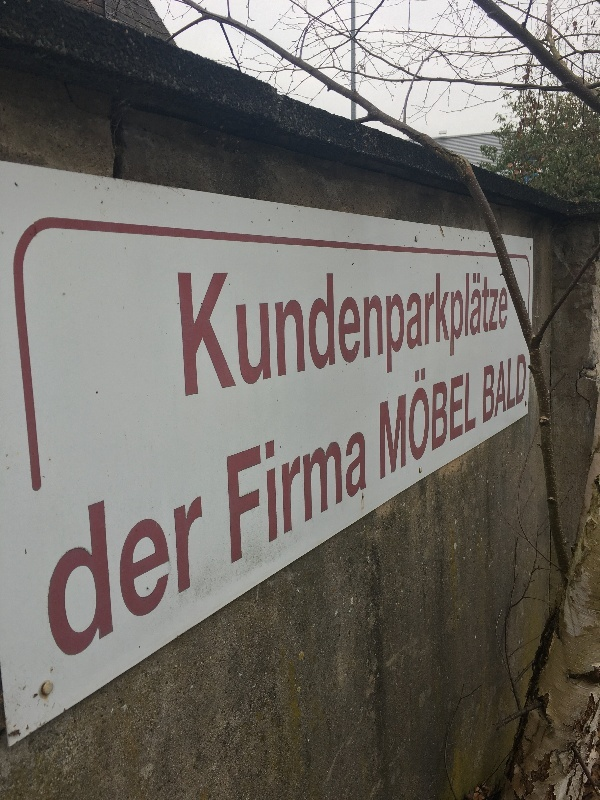text: (49, 480, 64, 676), (65, 480, 80, 676), (81, 480, 96, 676), (97, 480, 112, 676), (113, 480, 128, 676), (129, 480, 144, 676), (145, 480, 160, 676), (161, 480, 176, 676), (177, 480, 192, 676), (193, 480, 206, 676), (177, 272, 192, 433), (193, 272, 208, 433), (209, 272, 224, 433), (225, 272, 240, 433), (241, 272, 256, 433), (257, 272, 272, 433), (273, 272, 288, 433), (289, 272, 304, 433), (305, 272, 320, 433), (321, 272, 336, 433), (337, 272, 352, 433), (353, 272, 368, 433), (369, 272, 384, 433), (385, 272, 400, 433), (401, 272, 416, 433), (417, 272, 432, 433), (433, 272, 448, 433), (449, 272, 464, 433), (465, 272, 480, 433), (481, 272, 496, 433), (241, 416, 256, 569), (257, 416, 272, 569), (273, 416, 288, 569), (289, 416, 304, 569), (305, 416, 320, 569), (321, 416, 336, 569), (337, 416, 352, 569), (353, 416, 368, 569), (226, 416, 240, 569), (497, 272, 510, 433), (385, 352, 400, 486), (401, 352, 416, 486), (417, 352, 432, 486), (433, 352, 448, 486), (449, 352, 464, 486), (465, 352, 478, 486), (42, 480, 48, 676), (497, 353, 512, 428), (513, 353, 528, 428), (483, 353, 496, 428), (380, 352, 384, 486)
